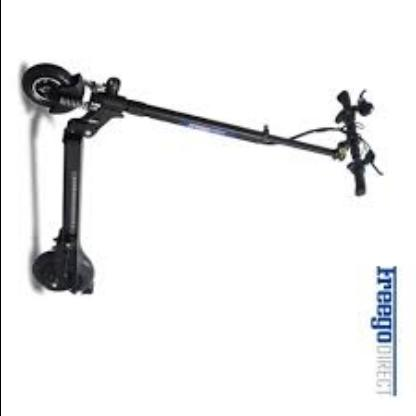bike: (23, 62, 406, 294)
